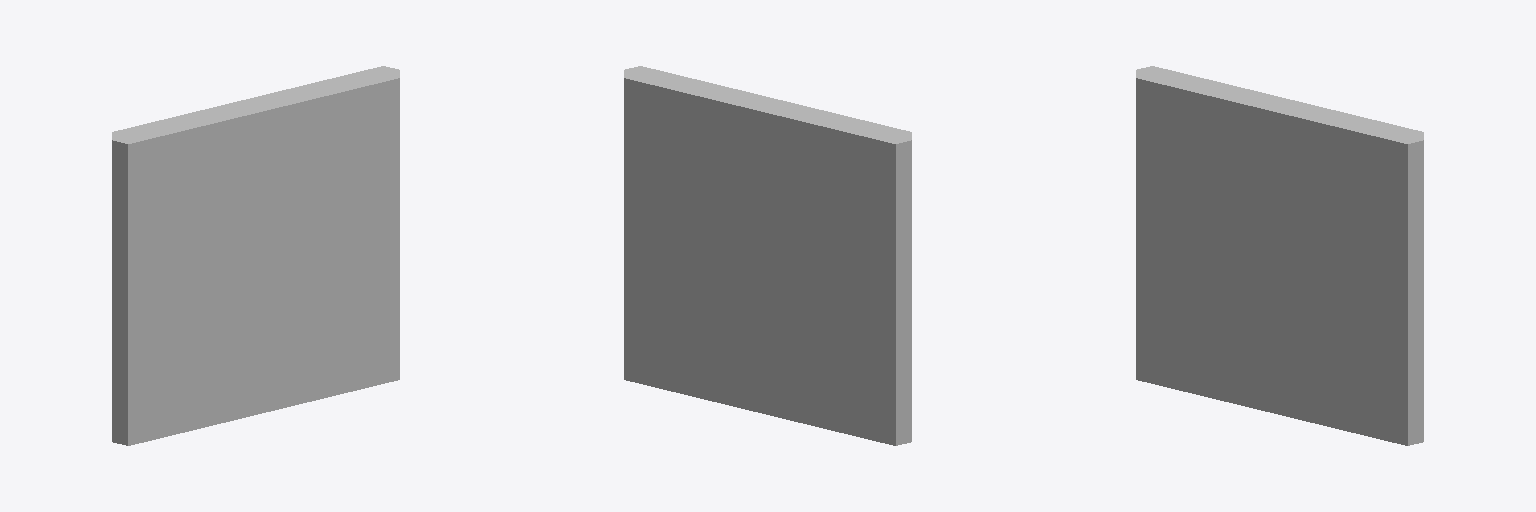
The model's file is hex_wall.obj.
3 renders of one model, left to right at view 1: azimuth 30°, elevation 25°; view 2: azimuth 150°, elevation 25°; view 3: azimuth 330°, elevation 25°, orthographic.
Parts seen in each view (by area): view 1: Hex_Wall_Hex_Wall.001; view 2: Hex_Wall_Hex_Wall.001; view 3: Hex_Wall_Hex_Wall.001.
Part boxes in pixels (bbox=[...]): Hex_Wall_Hex_Wall.001: bbox=[112, 66, 399, 445]; Hex_Wall_Hex_Wall.001: bbox=[624, 66, 911, 445]; Hex_Wall_Hex_Wall.001: bbox=[1136, 66, 1423, 445].
Bounding box in the file's own units: 1 × 1 × 0.1.